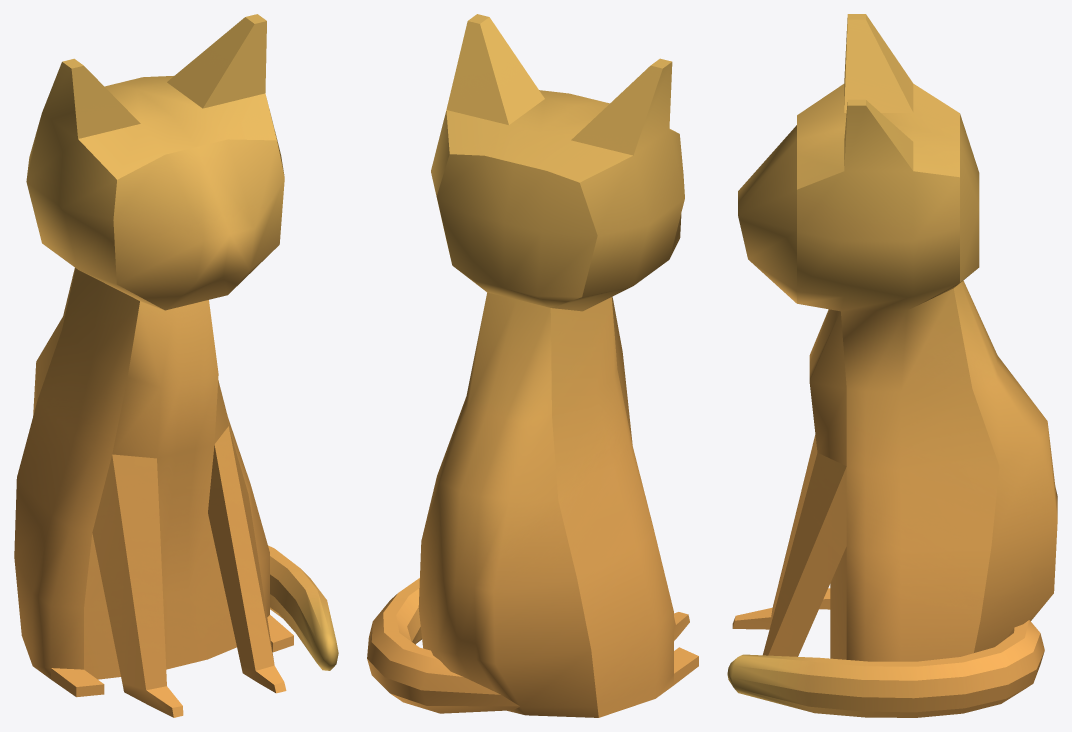
File: cat_idol.fbx
The picture shows the model from 3 angles, left to right: view 1: azimuth 30°, elevation 25°; view 2: azimuth 150°, elevation 25°; view 3: azimuth 270°, elevation 25°; orthographic projection. The views are drawn at different scales.
Visible parts, largest first — view 1: cat, catTail; view 2: cat, catTail; view 3: cat, catTail.
Part boxes in pixels (x1,y1,x2,y2): cat: (14, 14, 293, 717); catTail: (268, 545, 338, 670); cat: (418, 14, 698, 717); catTail: (367, 578, 519, 713); cat: (732, 14, 1057, 661); catTail: (727, 620, 1044, 717).
Size of the model in its own units: 23892 by 53768 by 27164.
1 material, 1 textured.
